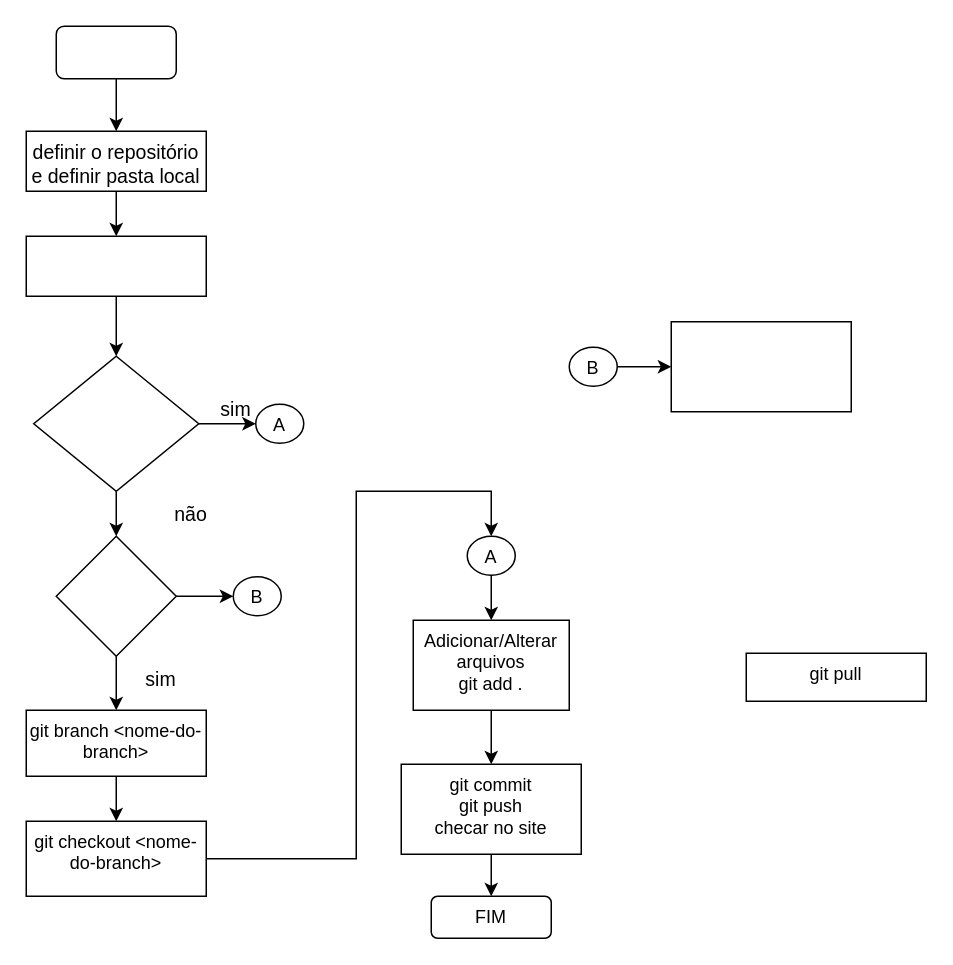
Image size: 953x965. Some labels were removed from this diagram. Here are the shapes that lost their labels. From the top down, the box of each, then its label:
(55, 25, 176, 79): INÍCIO
(25, 235, 206, 296): Acessar repositório git clone
(670, 320, 851, 412): criar branch remoto git push origin <nome-do-branch>
(32, 355, 199, 491): Branch main ??
(55, 535, 176, 656): local ??
